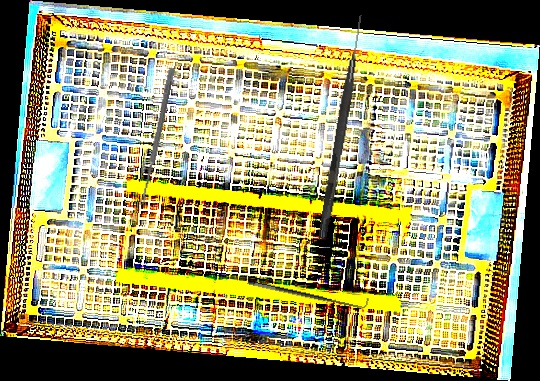Hook Surgical: (318, 13, 365, 240), (246, 270, 370, 314)
Surgical Spoon: (139, 67, 175, 206)
